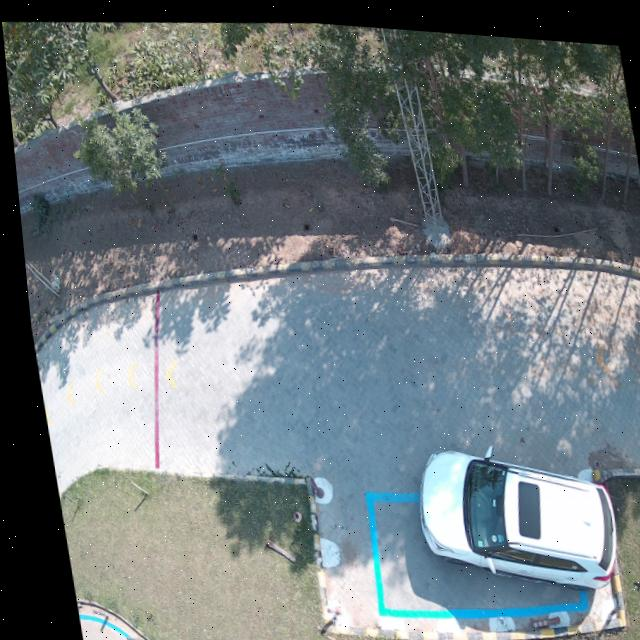car: (408, 441, 607, 582)
